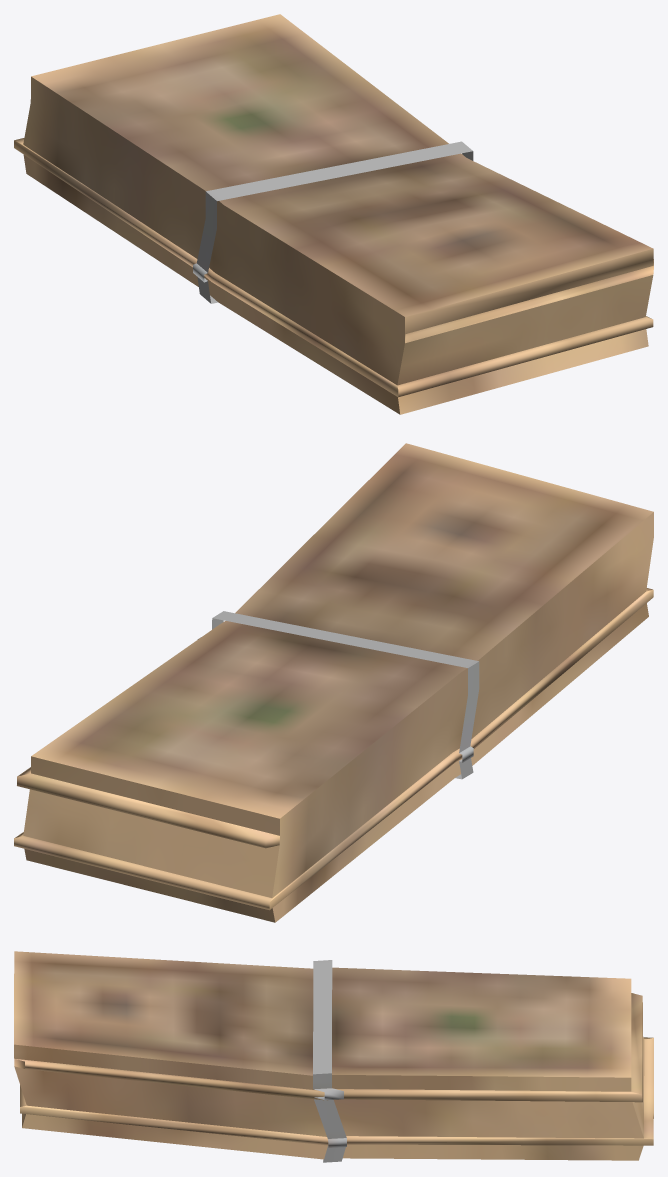
The model's file is cash_bundle.gltf.
3 renders of one model, top to bottom at view 1: azimuth 30°, elevation 25°; view 2: azimuth 150°, elevation 25°; view 3: azimuth 270°, elevation 25°, orthographic. The views are drawn at different scales.
Parts seen in each view (by area): view 1: cash_bundle; view 2: cash_bundle; view 3: cash_bundle.
Boxes of the visible parts, box(x1,y1,x2,y2) form: cash_bundle: box(14, 14, 653, 414); cash_bundle: box(14, 443, 653, 922); cash_bundle: box(14, 951, 653, 1162).
Size of the model in its own units: 0.085 by 0.0433 by 0.2137.
1 material, 1 textured.
